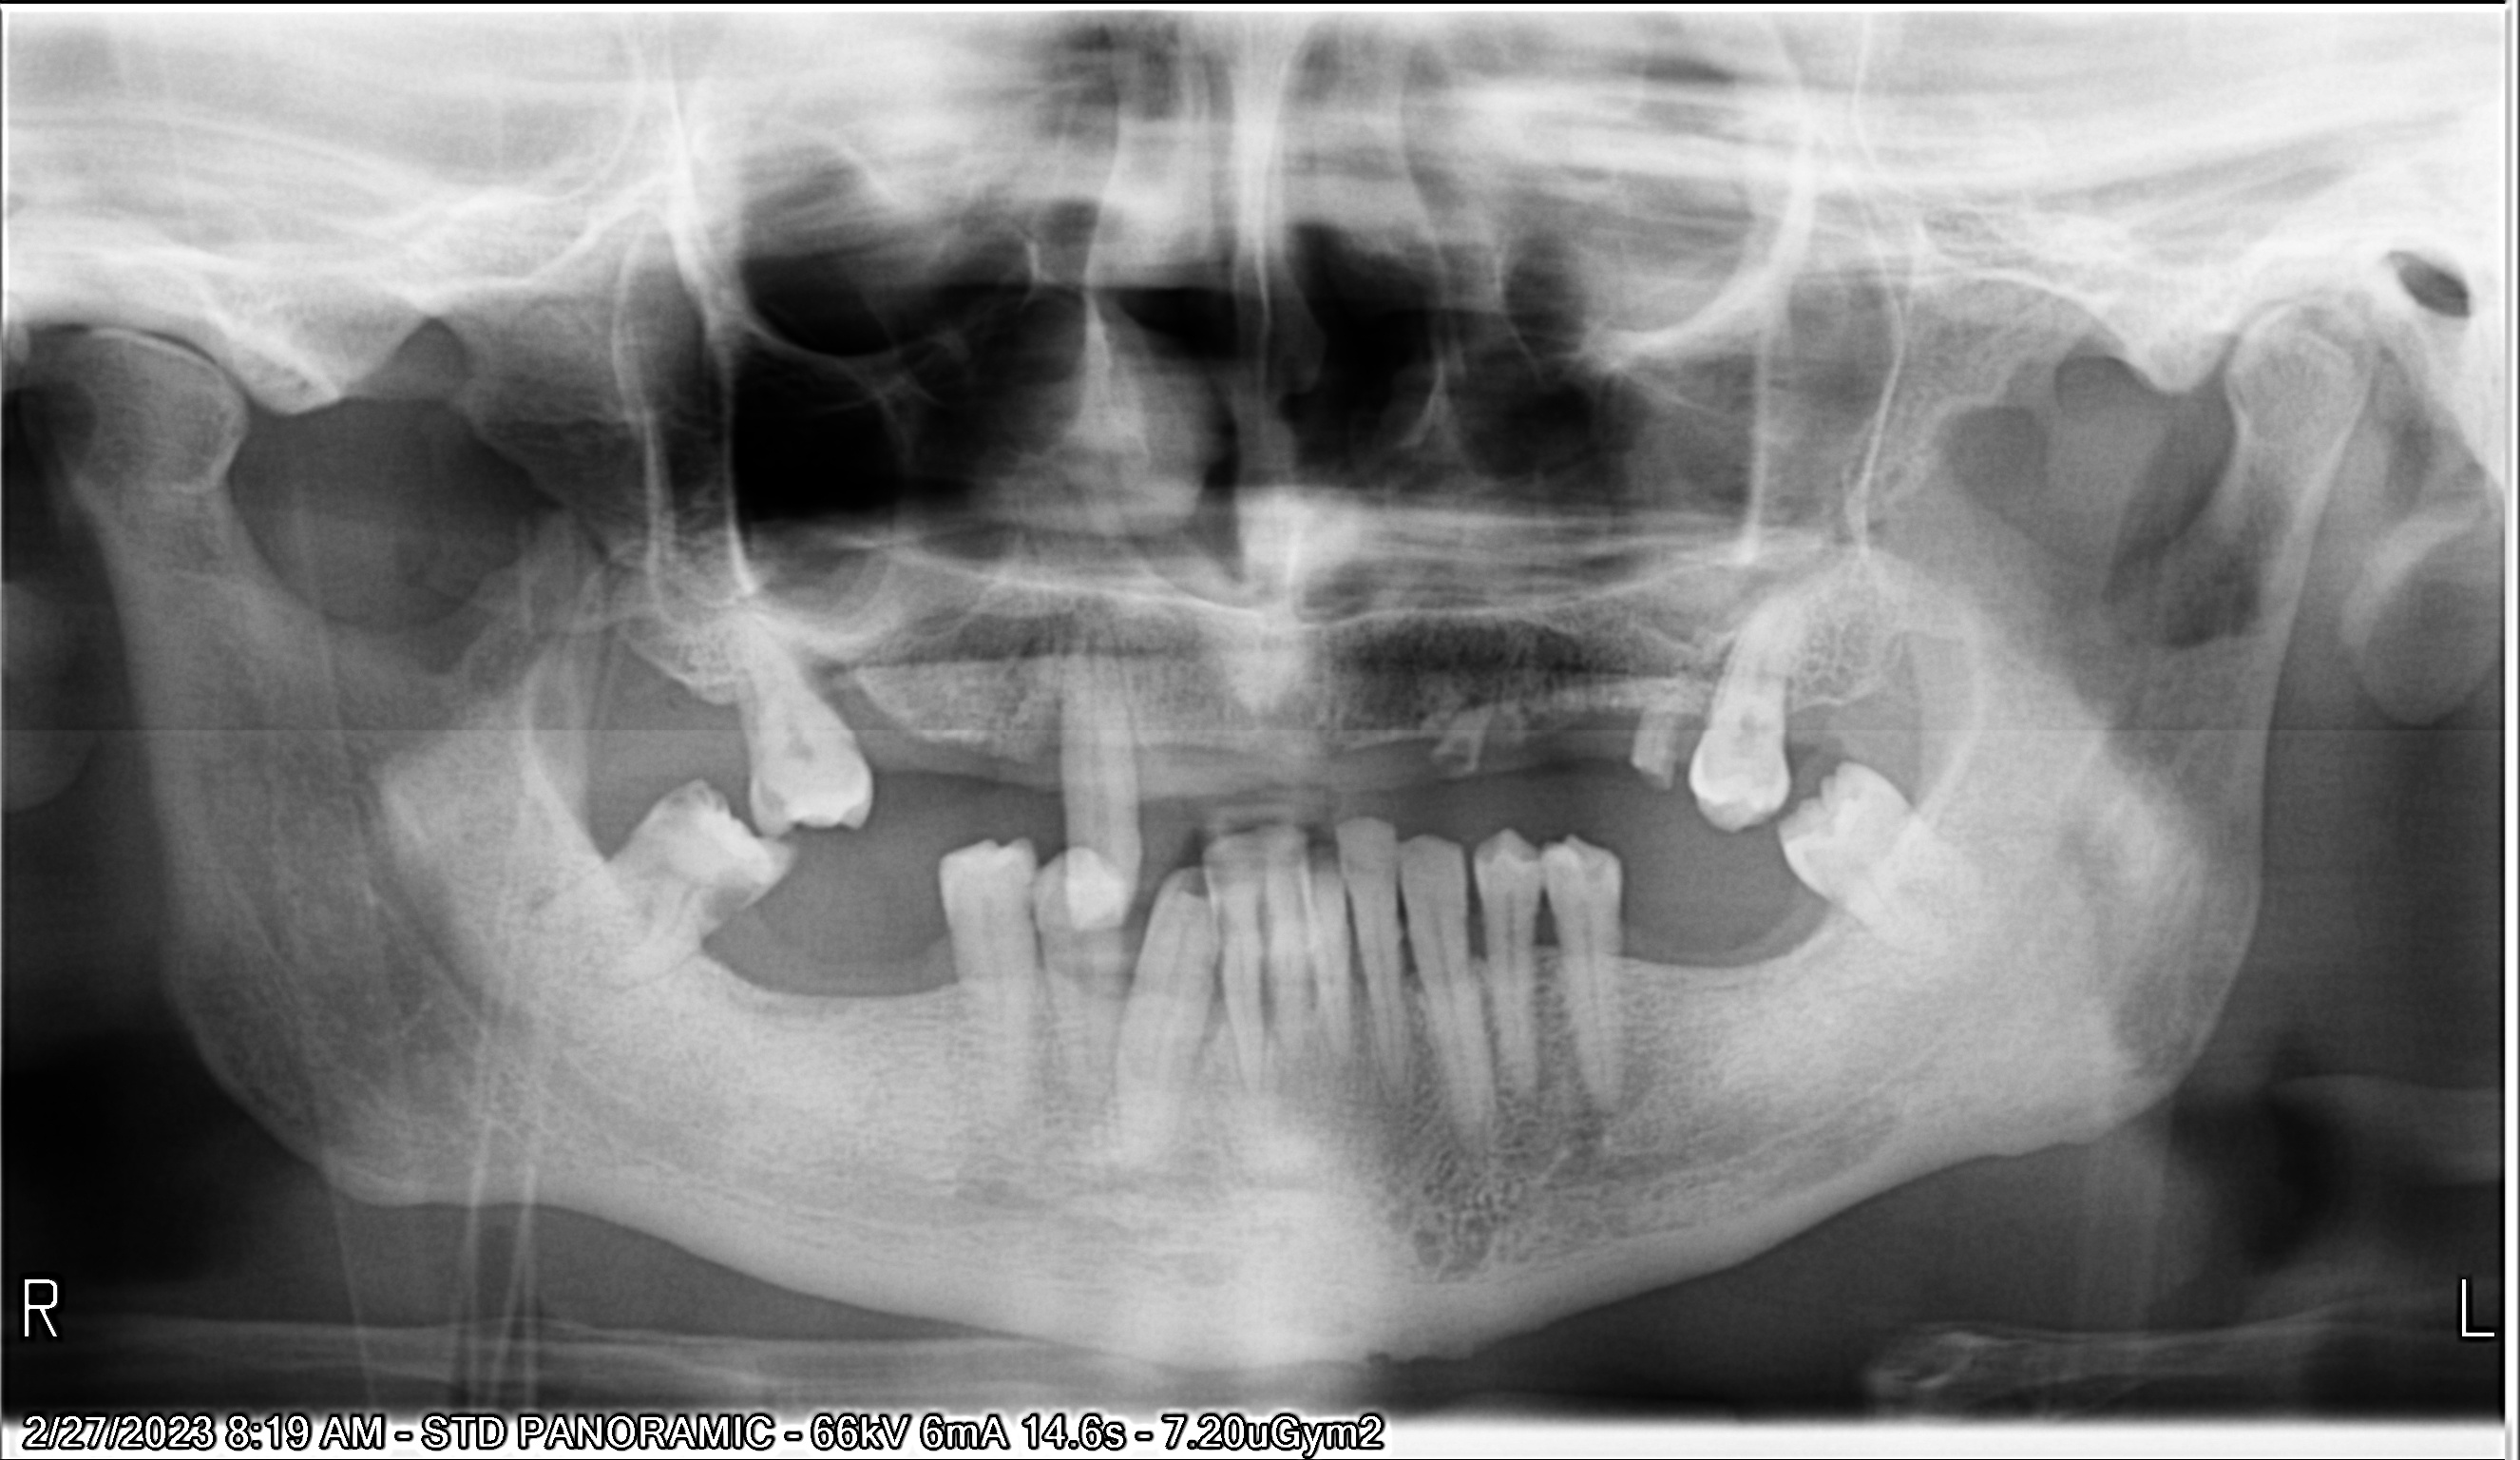BON: (782, 634, 907, 728), (1777, 885, 1877, 982), (993, 697, 1079, 803), (1596, 899, 1685, 998), (1113, 716, 1198, 808), (665, 912, 757, 996), (1176, 958, 1250, 1060), (910, 914, 981, 1015), (1771, 681, 1848, 761), (1438, 895, 1501, 982), (1374, 925, 1436, 1005), (1676, 683, 1735, 758), (1514, 899, 1577, 965)
ROT: (1606, 652, 1705, 787), (1422, 683, 1499, 787)
